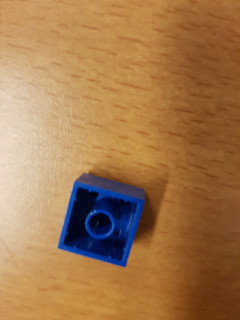2x2 blue: (54, 170, 148, 271)
